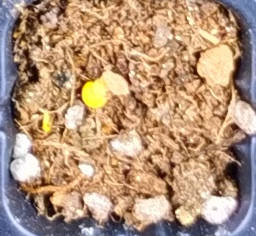pepper seed: (27, 25, 134, 135), (16, 44, 69, 176)
